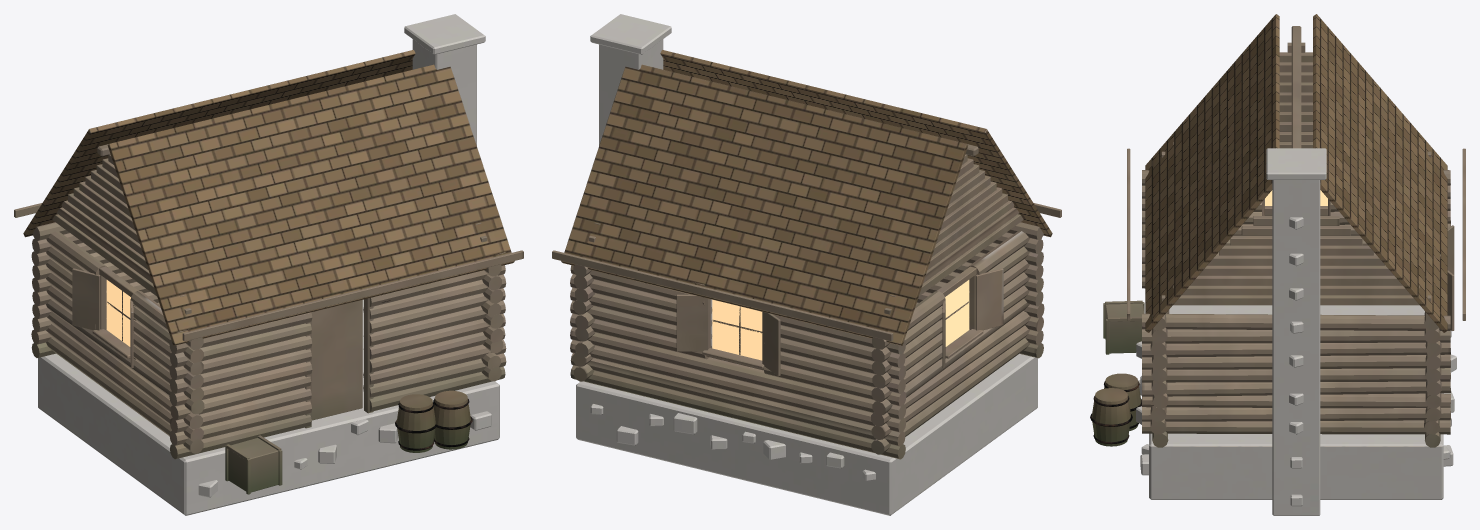
The model's file is cabin_dwelling.glb.
3 renders of one model, left to right at view 1: azimuth 30°, elevation 25°; view 2: azimuth 150°, elevation 25°; view 3: azimuth 270°, elevation 25°, orthographic.
Parts seen in each view (by area): view 1: Dwelling_opaque, Dwelling_winglass; view 2: Dwelling_opaque, Dwelling_winglass; view 3: Dwelling_opaque.
Part boxes in pixels (x1,y1,x2,y2): Dwelling_opaque: (14, 14, 523, 515); Dwelling_winglass: (106, 280, 130, 346); Dwelling_opaque: (552, 14, 1061, 515); Dwelling_winglass: (712, 280, 969, 360); Dwelling_opaque: (1090, 14, 1465, 515).
Size of the model in its own units: 6.26 by 5.62 by 5.49.
Materials: 3 (1 with a texture image).
